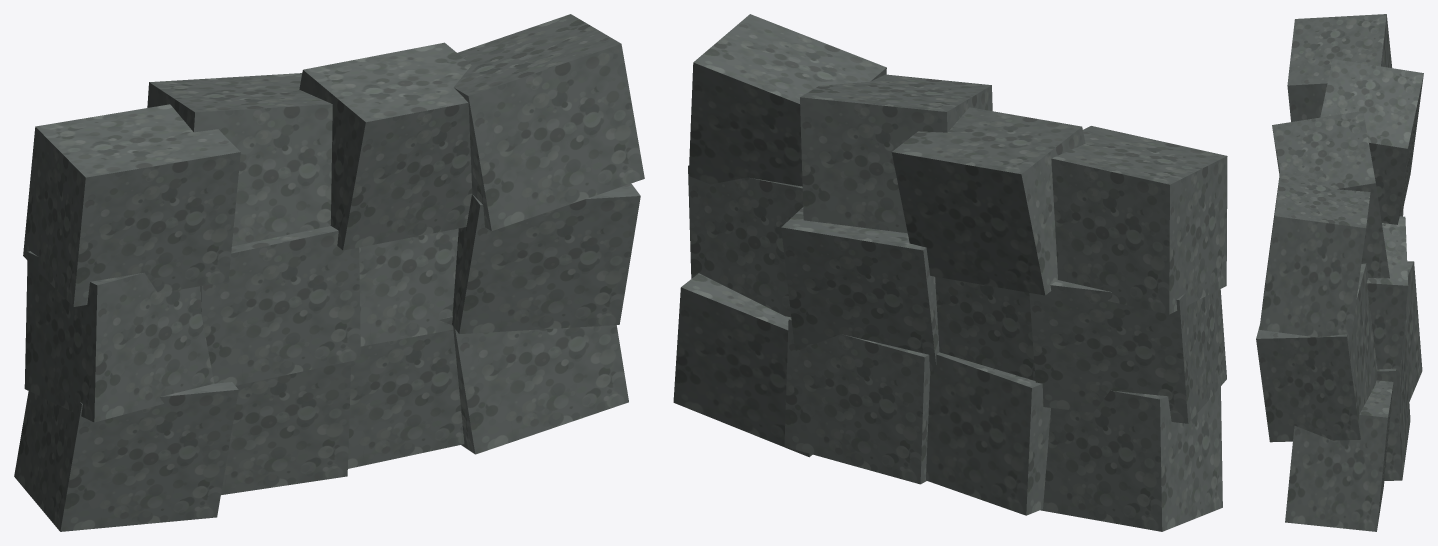
Rendered from en-012_rock_wall_module__ledge.obj.
The picture shows the model from 3 angles, left to right: view 1: azimuth 30°, elevation 25°; view 2: azimuth 150°, elevation 25°; view 3: azimuth 270°, elevation 25°; orthographic projection. The views are drawn at different scales.
Parts seen in each view (by area): view 1: en-012_rock_wall_module__ledge; view 2: en-012_rock_wall_module__ledge; view 3: en-012_rock_wall_module__ledge.
Boxes of the visible parts, x1,y1,x2,y2 form: en-012_rock_wall_module__ledge: (14,14,644,531); en-012_rock_wall_module__ledge: (673,14,1227,531); en-012_rock_wall_module__ledge: (1256,14,1423,531).
Size of the model in its own units: 2.4 by 1.63 by 0.7637.
1 material, 1 textured.
